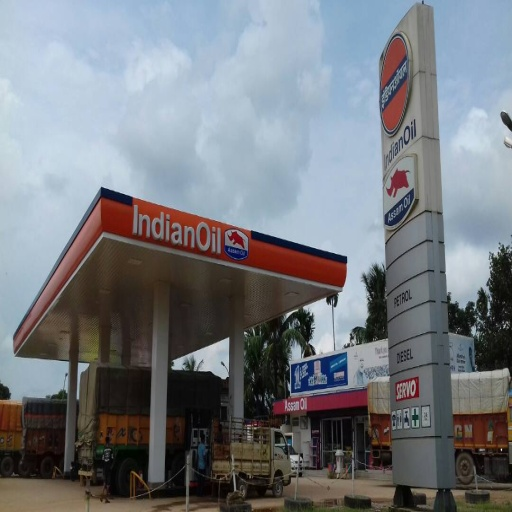roof: (13, 184, 345, 371)
